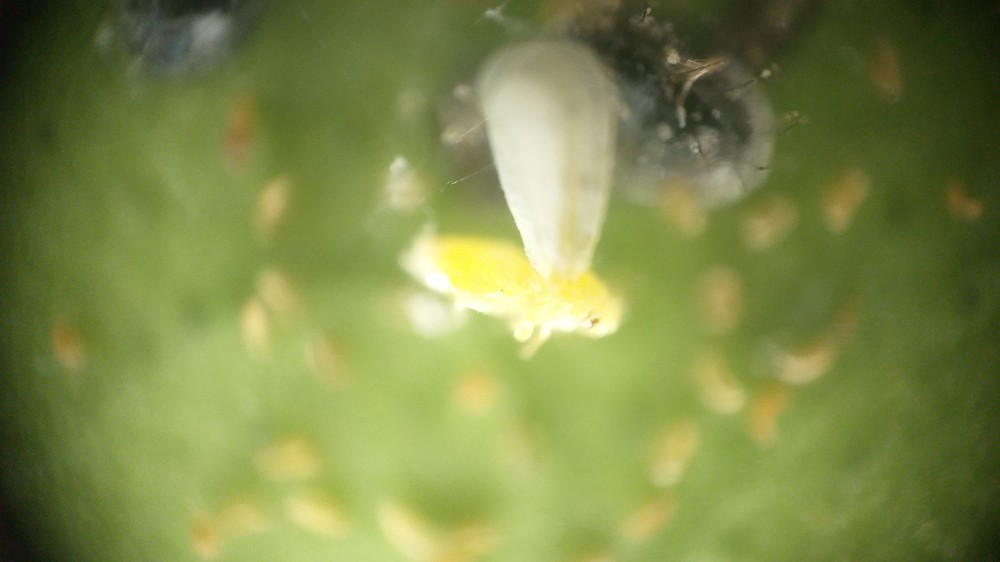Mosca Blanca: (397, 46, 654, 374)
